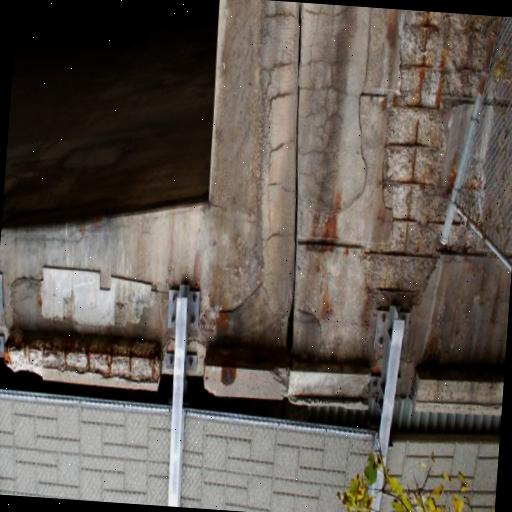spalling: (380, 12, 493, 252), (7, 333, 161, 383)
